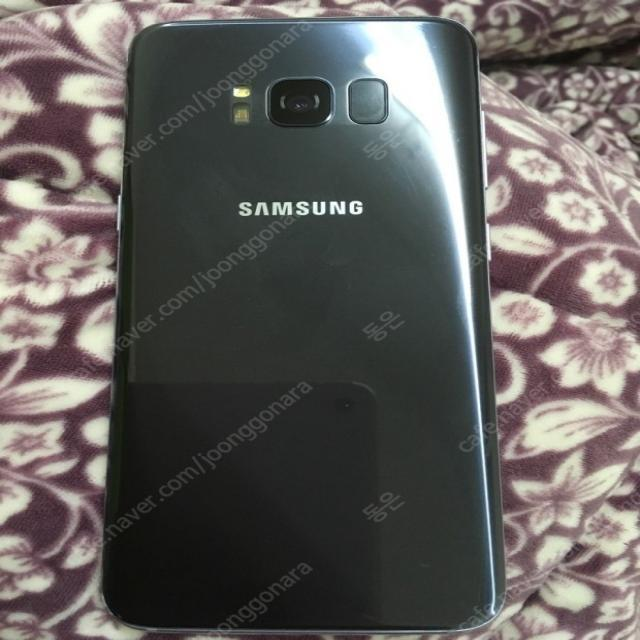phone: (107, 19, 503, 629)
